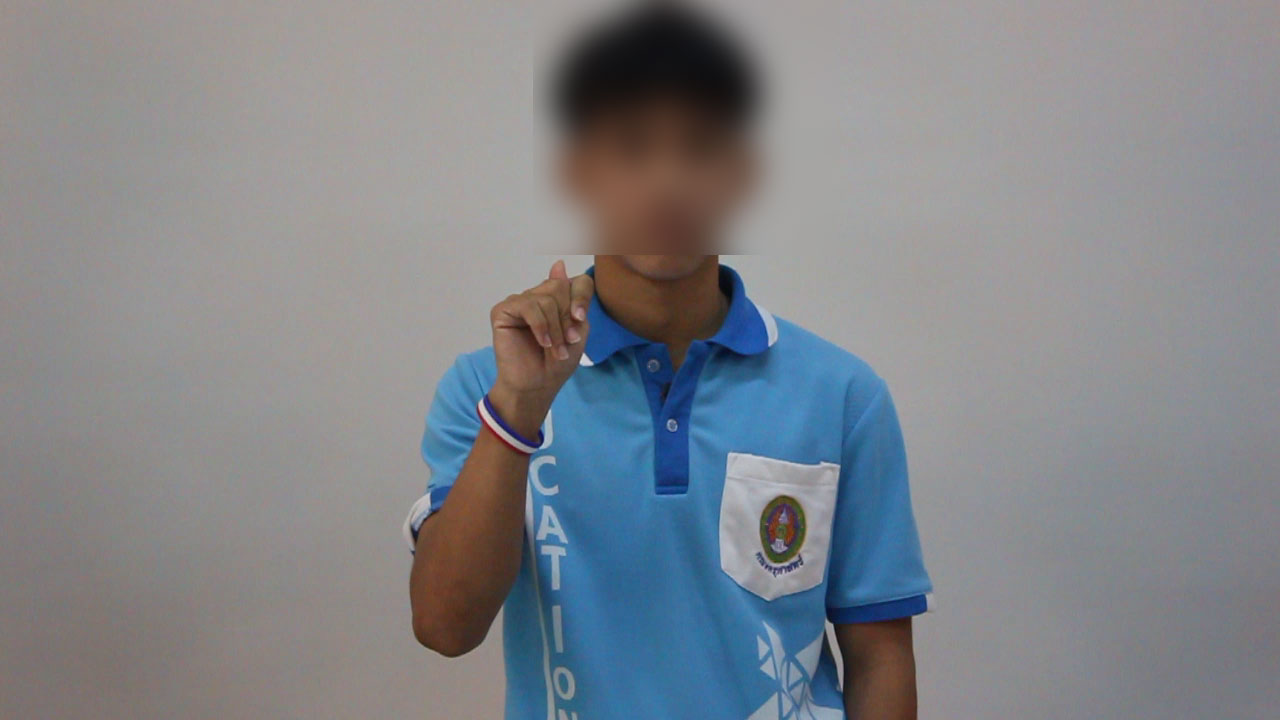tor: (464, 247, 621, 438)
